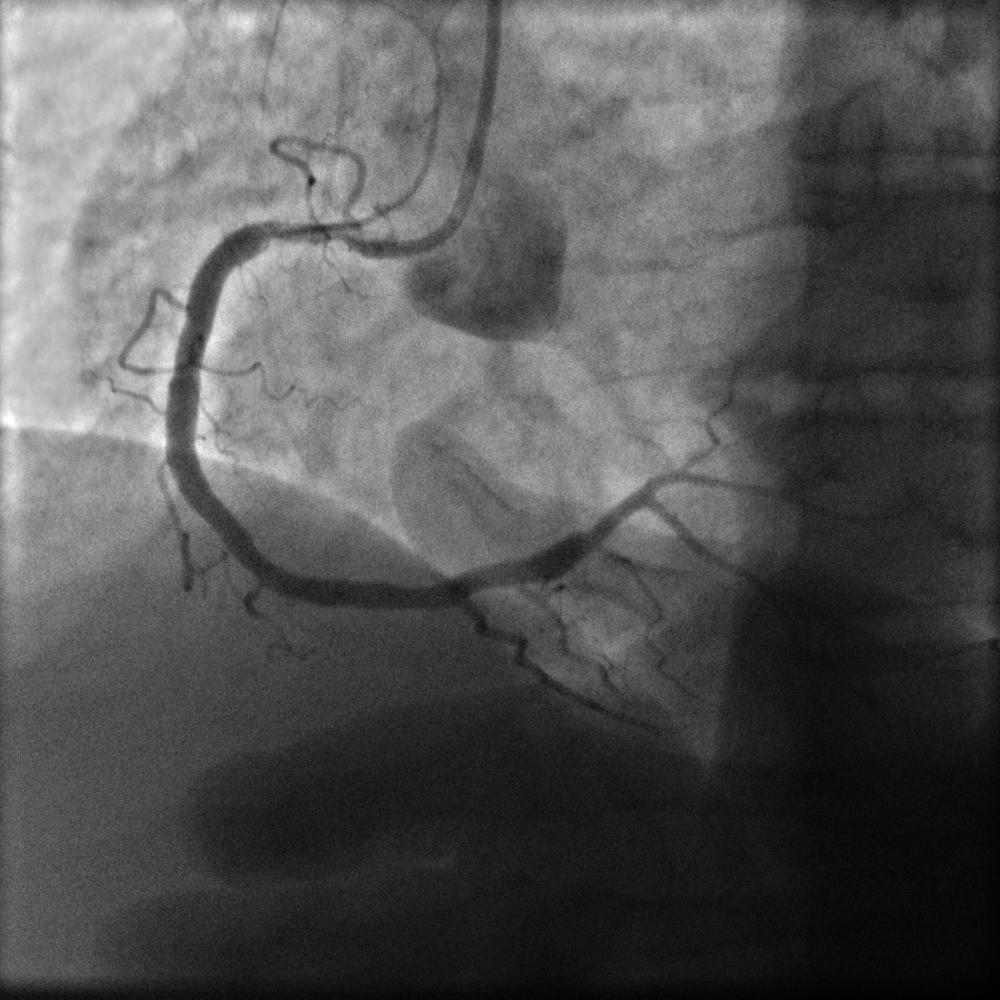Stenosis: (256, 208, 356, 256)
